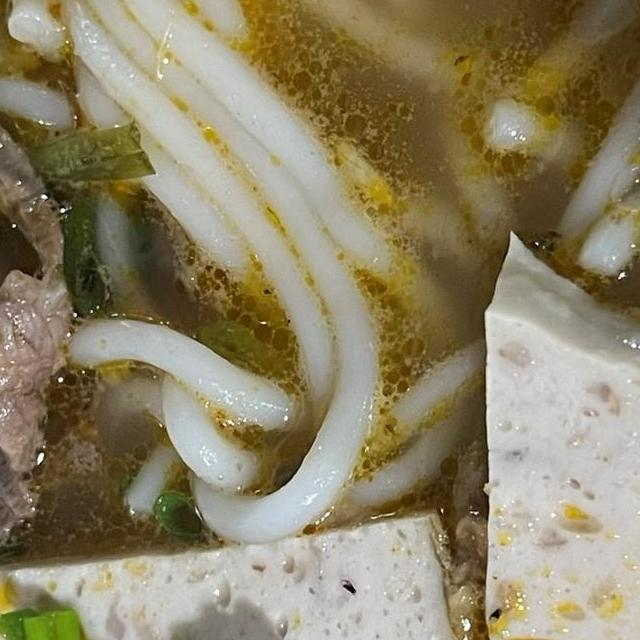bun: (0, 0, 640, 539)
bun bo: (0, 0, 640, 640)
thit bo: (0, 0, 111, 594)
